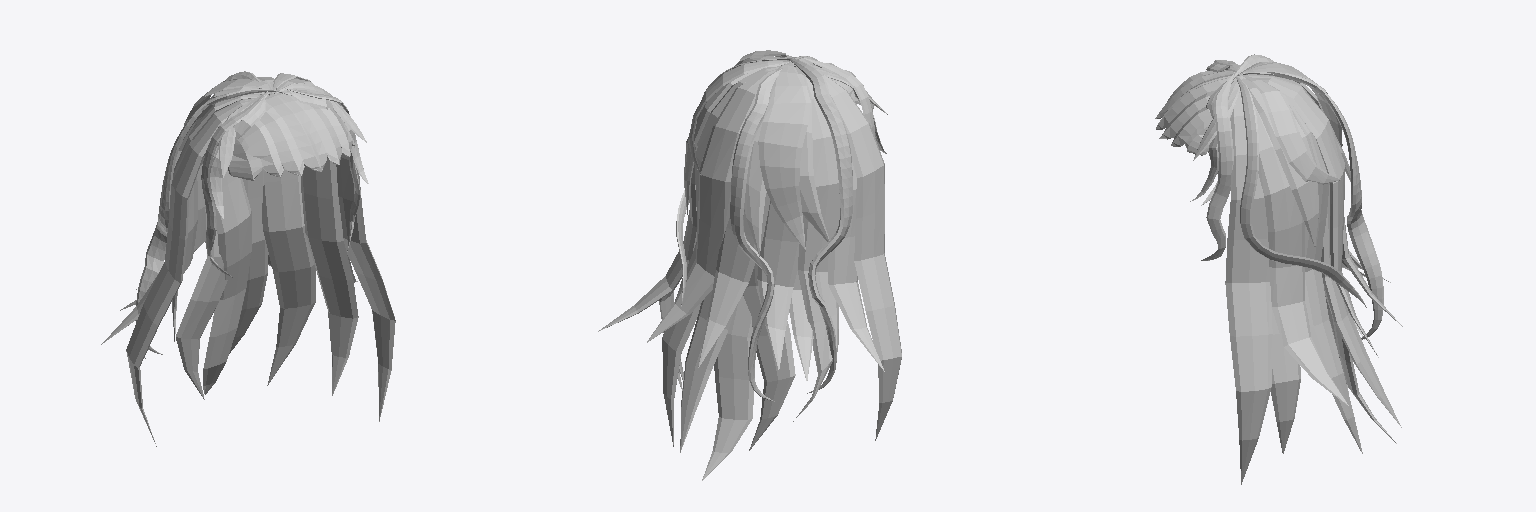
File: C007_Hair1.obj
3 renders of one model, left to right at view 1: azimuth 30°, elevation 25°; view 2: azimuth 150°, elevation 25°; view 3: azimuth 270°, elevation 25°, orthographic.
Parts seen in each view (by area): view 1: Fringe, Hair sweep6, Hair sweep7, sweep2 Hair, Hair sweep1, Hair sweep8, Hair sweep4, Hair polySurface2, Hair sweep5, Hair polySurface5, Hair polySurface4, Hair polySurface3 (+4 smaller); view 2: sweep2 Hair, Hair sweep14, Hair sweep22, Hair sweep3, Hair sweep1, Hair polySurface2, Hair polySurface1, Hair sweep10, Hair sweep13, Hair sweep4, Hair sweep12, Hair sweep6 (+9 smaller); view 3: Hair sweep8, Hair sweep15, Hair sweep6, Hair sweep14, Fringe, Hair polySurface1, Hair sweep21, Hair polySurface5, Hair sweep23, Hair sweep5, Hair sweep7, Hair sweep19 (+5 smaller).
Part boxes in pixels (left/top/right/bottom): Fringe: left=228, top=93, right=354, bottom=180; Hair sweep6: left=262, top=79, right=315, bottom=385; Hair sweep7: left=301, top=157, right=358, bottom=395; sweep2 Hair: left=126, top=100, right=251, bottom=446; Hair sweep1: left=203, top=95, right=268, bottom=394; Hair sweep8: left=336, top=153, right=395, bottom=421; Hair sweep4: left=176, top=209, right=227, bottom=399; Hair polySurface2: left=136, top=89, right=285, bottom=354; Hair sweep5: left=229, top=92, right=272, bottom=353; Hair polySurface5: left=201, top=88, right=360, bottom=277; Hair polySurface4: left=208, top=90, right=368, bottom=219; Hair polySurface3: left=219, top=90, right=366, bottom=177; sweep2 Hair: left=823, top=74, right=901, bottom=440; Hair sweep14: left=647, top=69, right=776, bottom=342; Hair sweep22: left=758, top=62, right=810, bottom=249; Hair sweep3: left=793, top=72, right=839, bottom=421; Hair sweep1: left=702, top=295, right=753, bottom=480; Hair polySurface2: left=787, top=58, right=852, bottom=393; Hair polySurface1: left=730, top=65, right=795, bottom=401; Hair sweep10: left=757, top=201, right=799, bottom=369; Hair sweep13: left=698, top=191, right=769, bottom=367; Hair sweep4: left=743, top=263, right=795, bottom=450; Hair sweep12: left=828, top=162, right=884, bottom=371; Hair sweep6: left=662, top=66, right=780, bottom=446; Hair sweep8: left=1225, top=92, right=1272, bottom=484; Hair sweep15: left=1240, top=91, right=1348, bottom=405; Hair sweep6: left=1246, top=79, right=1362, bottom=453; Hair sweep14: left=1256, top=78, right=1378, bottom=357; Fringe: left=1155, top=70, right=1235, bottom=155; Hair polySurface1: left=1239, top=71, right=1383, bottom=339; Hair sweep21: left=1234, top=74, right=1366, bottom=307; Hair polySurface5: left=1201, top=60, right=1234, bottom=260; Hair sweep23: left=1240, top=74, right=1340, bottom=184; Hair sweep5: left=1243, top=78, right=1401, bottom=427; Hair sweep7: left=1270, top=286, right=1300, bottom=453; Hair sweep19: left=1242, top=79, right=1319, bottom=246.
Bounding box in the file's own units: 5.93 × 7.67 × 4.69.